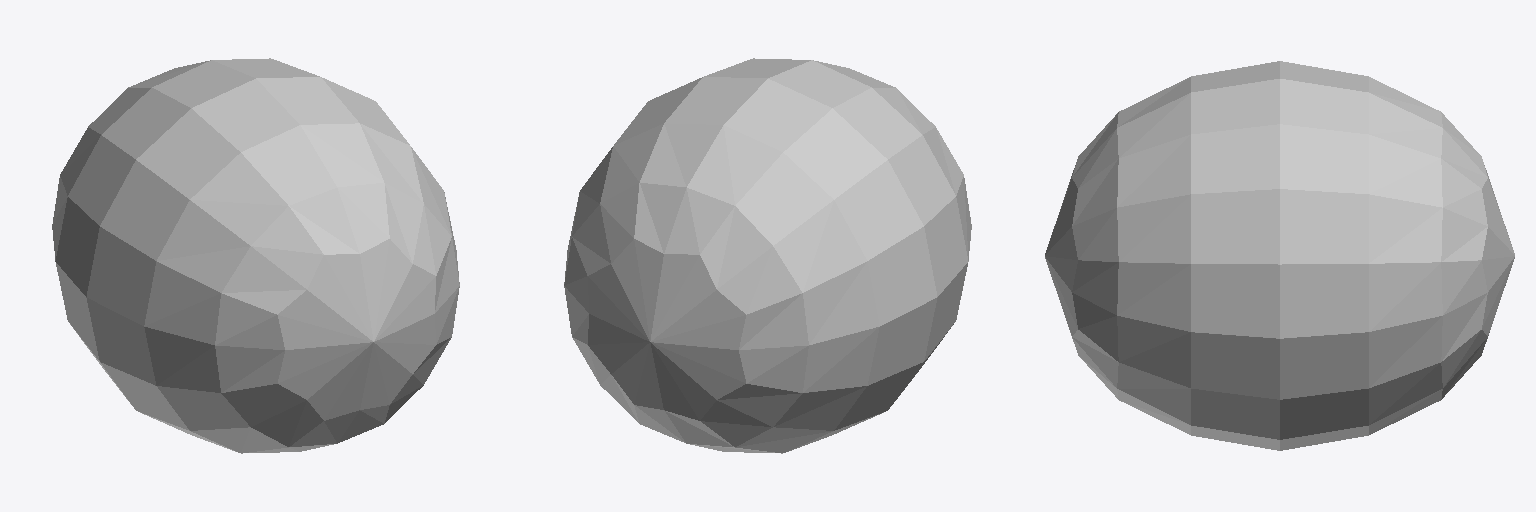
File: Coconut .obj
3 views of the same model, side by side, from view 1: azimuth 30°, elevation 25°; view 2: azimuth 150°, elevation 25°; view 3: azimuth 270°, elevation 25° (orthographic).
Visible parts, largest first — view 1: Coconut; view 2: Coconut; view 3: Coconut.
Part boxes in pixels (x1,y1,x2,y2): Coconut: (52,58,459,453); Coconut: (564,58,971,453); Coconut: (1045,61,1514,450).
Size of the model in its own units: 5.72 by 5.72 by 6.87.